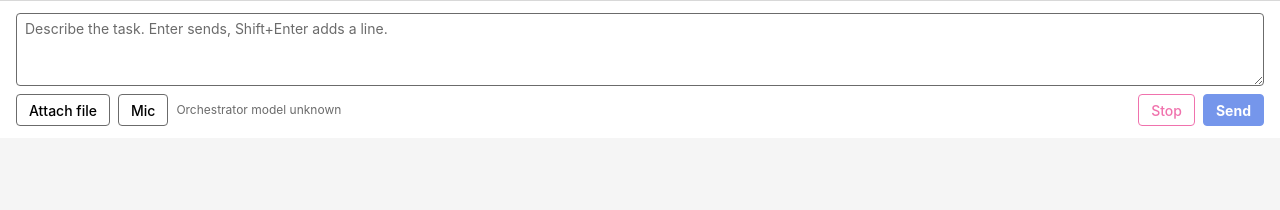
Composer › should allow another attempt after a send is rejected
Type "Hello" into the text box named "Message" at [640, 50], box [16, 13, 1264, 86]
Then press Enter
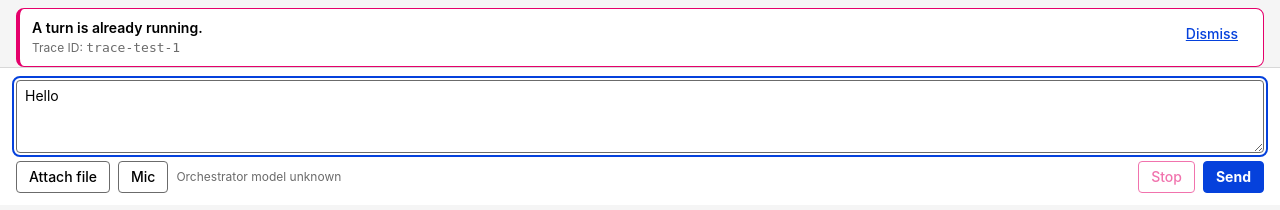
expect the message shows "A turn is already running.": met, box [32, 19, 203, 36]
expect the button "Send" is enabled: met, box [1203, 160, 1264, 192]
